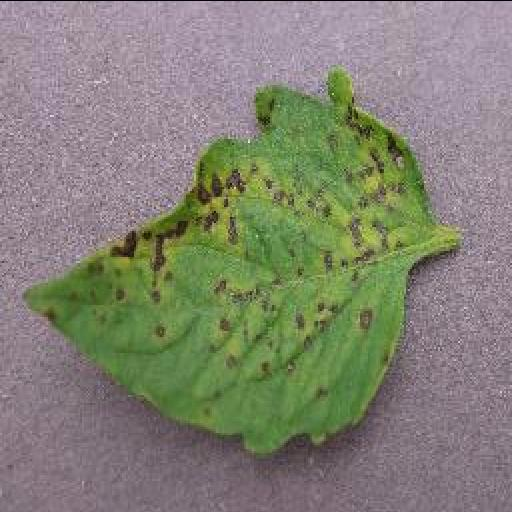disease_tomato: (20, 64, 434, 449)
